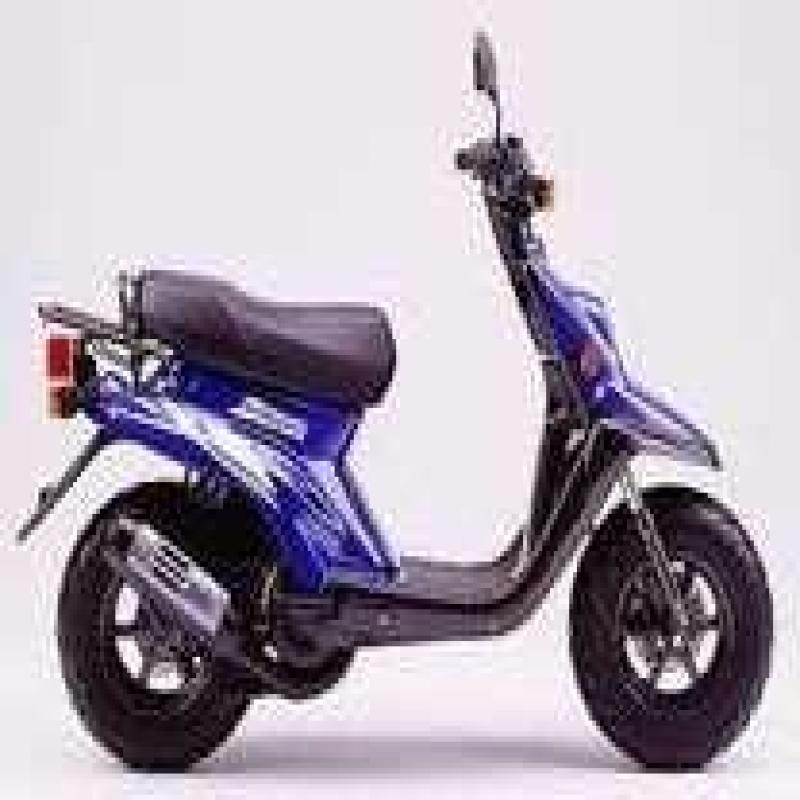bike: (36, 27, 752, 800)
